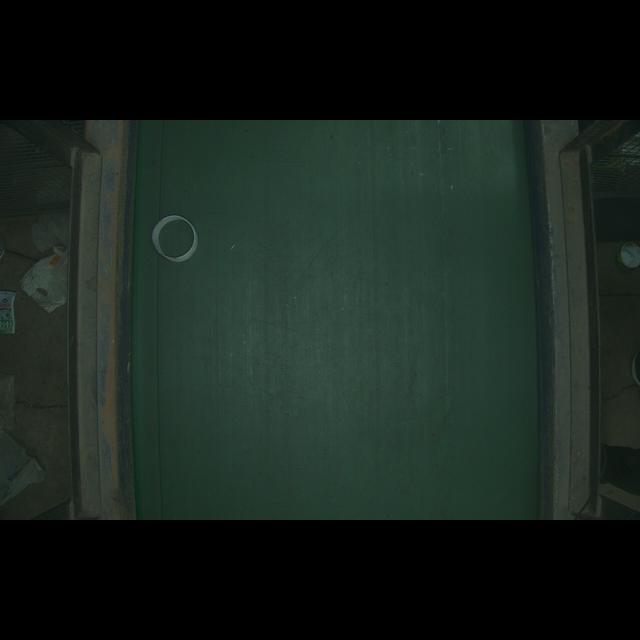mix rigid: (137, 205, 217, 268)
